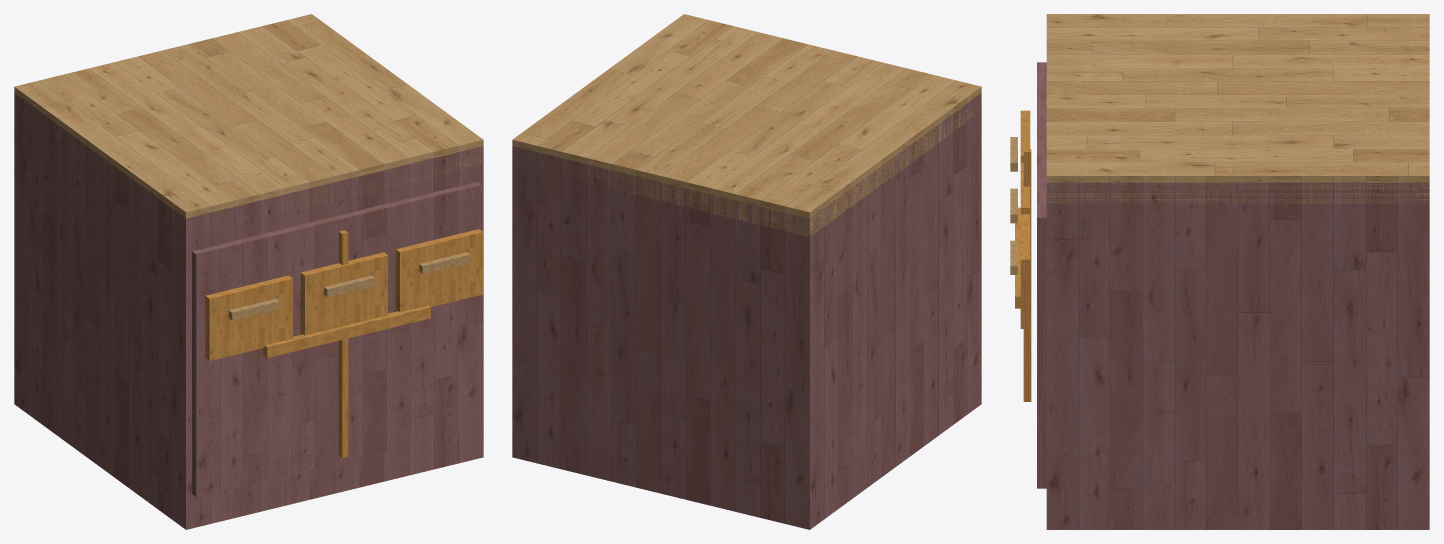
Rendered from kitchen.gltf.
3 renders of one model, left to right at view 1: azimuth 30°, elevation 25°; view 2: azimuth 150°, elevation 25°; view 3: azimuth 270°, elevation 25°, orthographic. The views are drawn at different scales.
Parts seen in each view (by area): view 1: body, counter, front, drawer_0.32, drawer_-0.32, drawer_0, handle, joint, drawer_handle_0.32, drawer_handle_-0.32, drawer_handle_0; view 2: body, counter; view 3: body, counter, front, joint, drawer_0.32.
Boxes of the visible parts, x1,y1,x2,y2 form: body: (14,93,483,529); counter: (14,14,483,234); front: (192,181,481,497); drawer_0.32: (395,229,483,312); drawer_-0.32: (205,275,292,360); drawer_0: (300,252,387,335); handle: (263,305,430,357); joint: (338,230,348,458); drawer_handle_0.32: (419,252,470,273); drawer_handle_-0.32: (228,298,279,320); drawer_handle_0: (324,275,374,297); body: (512,93,981,529); counter: (512,14,981,237); body: (1046,182,1429,529); counter: (1046,14,1429,203); front: (1037,62,1046,488); joint: (1023,149,1031,401); drawer_0.32: (1020,214,1030,328).
Bounding box in the file's own units: 1 × 1.02 × 1.09.
Materials: 3 (3 with a texture image).
